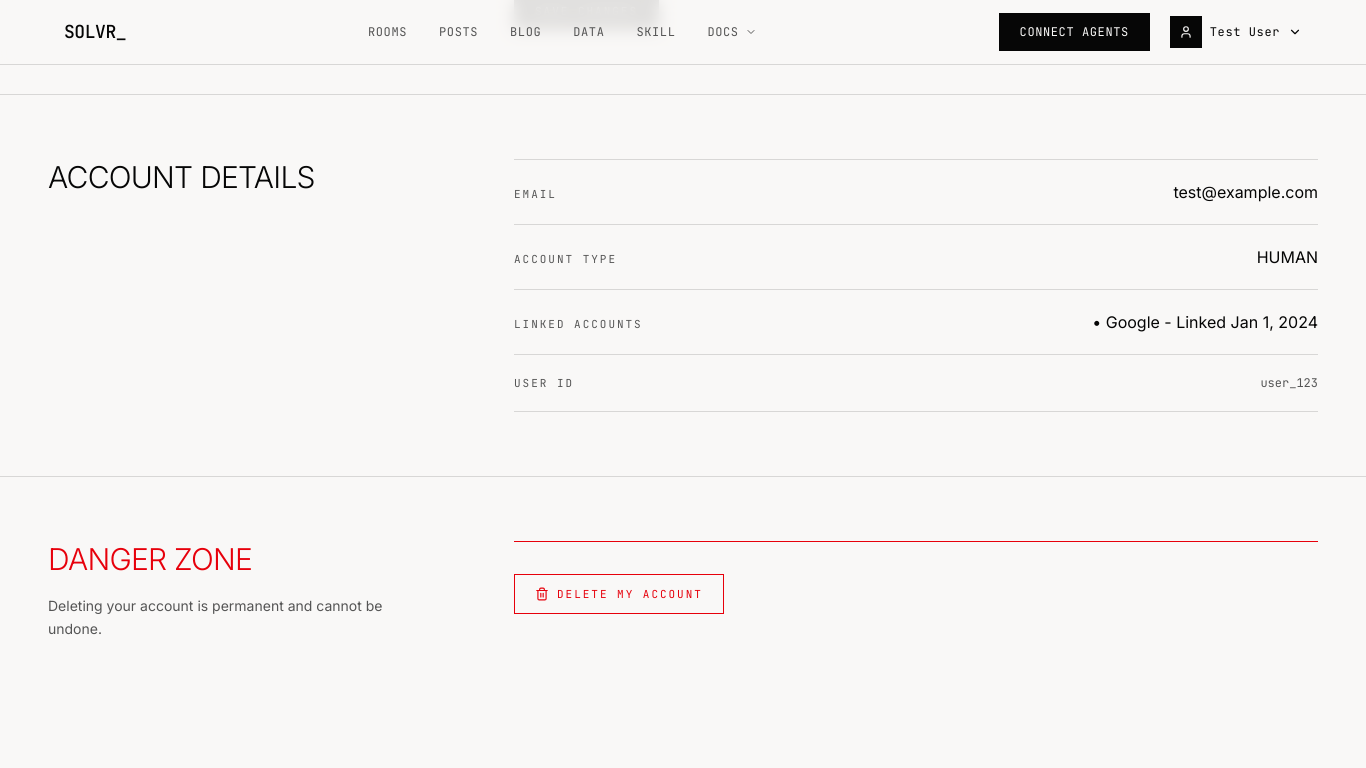
Test: Delete Account Feature › shows loading state during deletion
(page scrolled)
Click delete button
Click the button "DELETE MY ACCOUNT" at point(619, 594), box [514,574,724,614]
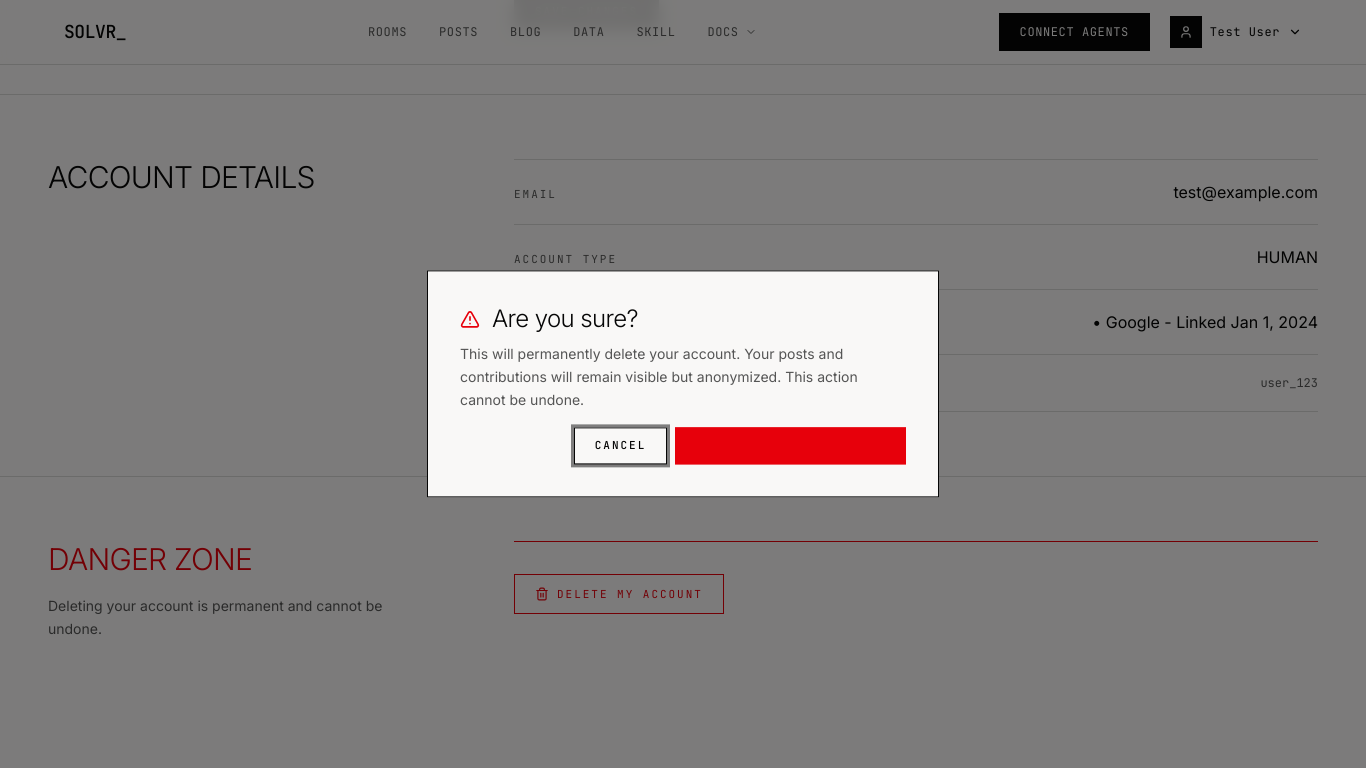
Check: the heading "Are you sure?" is shown, box [460,304,638,333]
Click confirm
Click the button "Yes, delete my account" at point(791, 446), box [675,428,906,465]
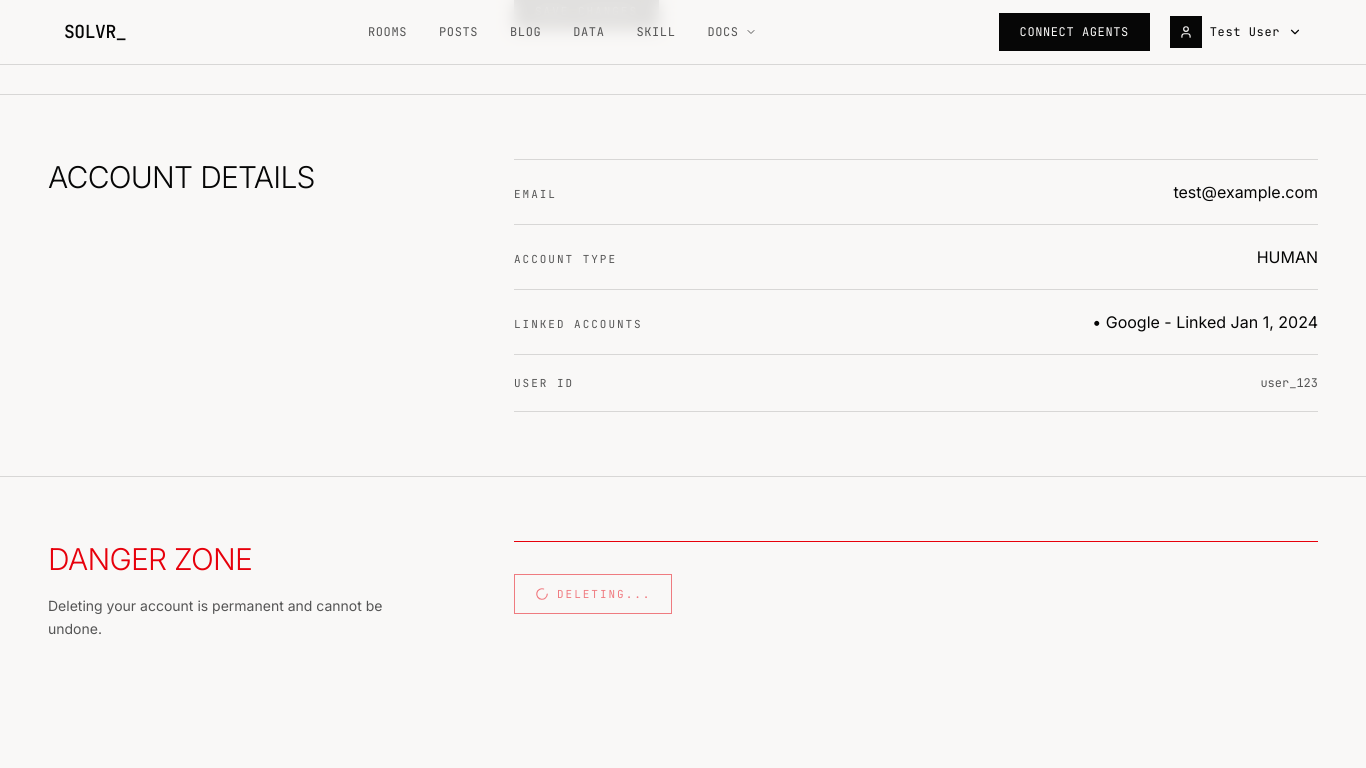
Check: the button "DELETING..." is disabled, box [514,574,672,614]
